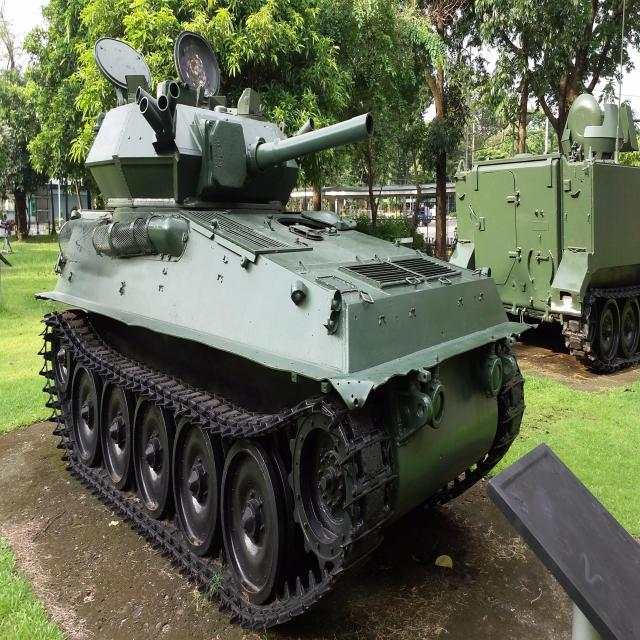Tanks: (38, 15, 512, 602)
